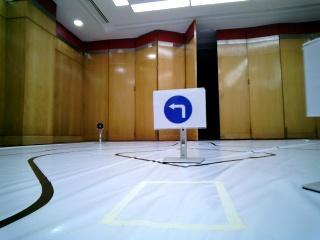left: (159, 92, 205, 129)
